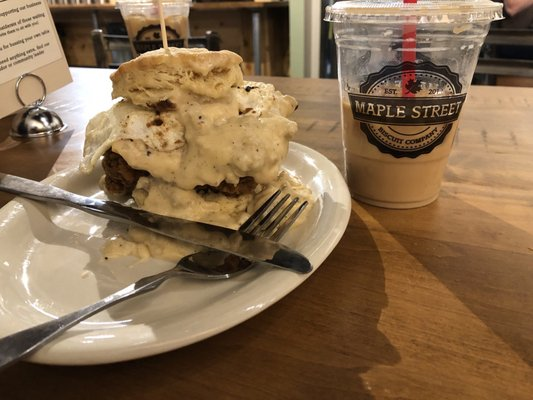burger: (0, 233, 314, 374)
pizza: (117, 0, 192, 60)
sandwich: (1, 167, 312, 263)
